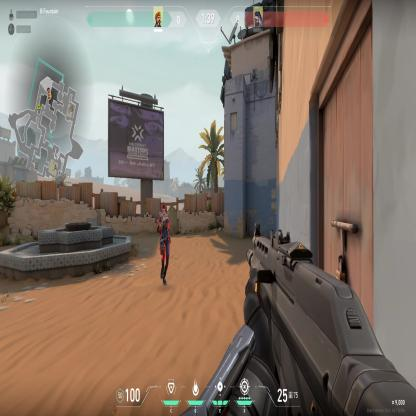enemy: (156, 202, 171, 287)
